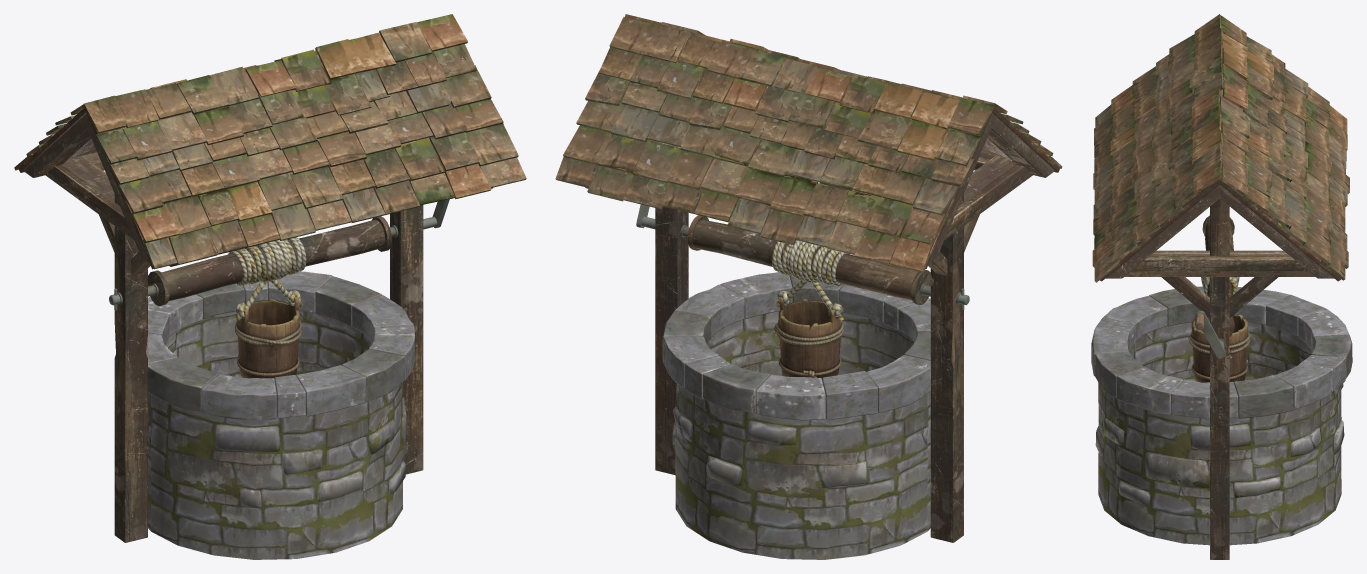
The picture shows the model from 3 angles, left to right: view 1: azimuth 30°, elevation 25°; view 2: azimuth 150°, elevation 25°; view 3: azimuth 270°, elevation 25°; orthographic projection. The views are drawn at different scales.
Visible parts, largest first — view 1: SM_Village_Well_v3_LOD0; view 2: SM_Village_Well_v3_LOD0; view 3: SM_Village_Well_v3_LOD0.
Boxes of the visible parts, box(x1,y1,x2,y2) form: SM_Village_Well_v3_LOD0: box(14, 14, 526, 559); SM_Village_Well_v3_LOD0: box(555, 14, 1062, 559); SM_Village_Well_v3_LOD0: box(1091, 14, 1352, 559).
Bounding box in the file's own units: 2.57 × 2.85 × 1.69.
3 materials, 3 textured.
